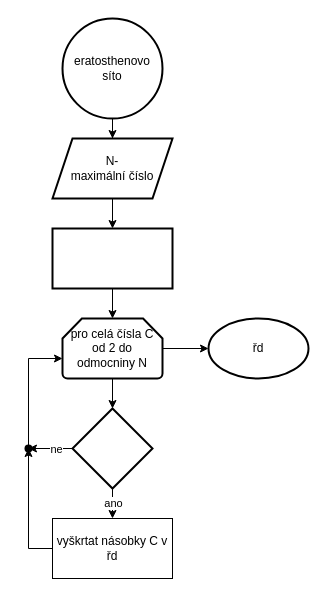
Some shapes in this 326 by 596 pixel diagram are drawn without their labels. Each missing label, with the centre of its shape:
"je C v řd?" belongs at (x=112, y=448).
"řd-řada čísel 1-N" belongs at (x=112, y=258).
